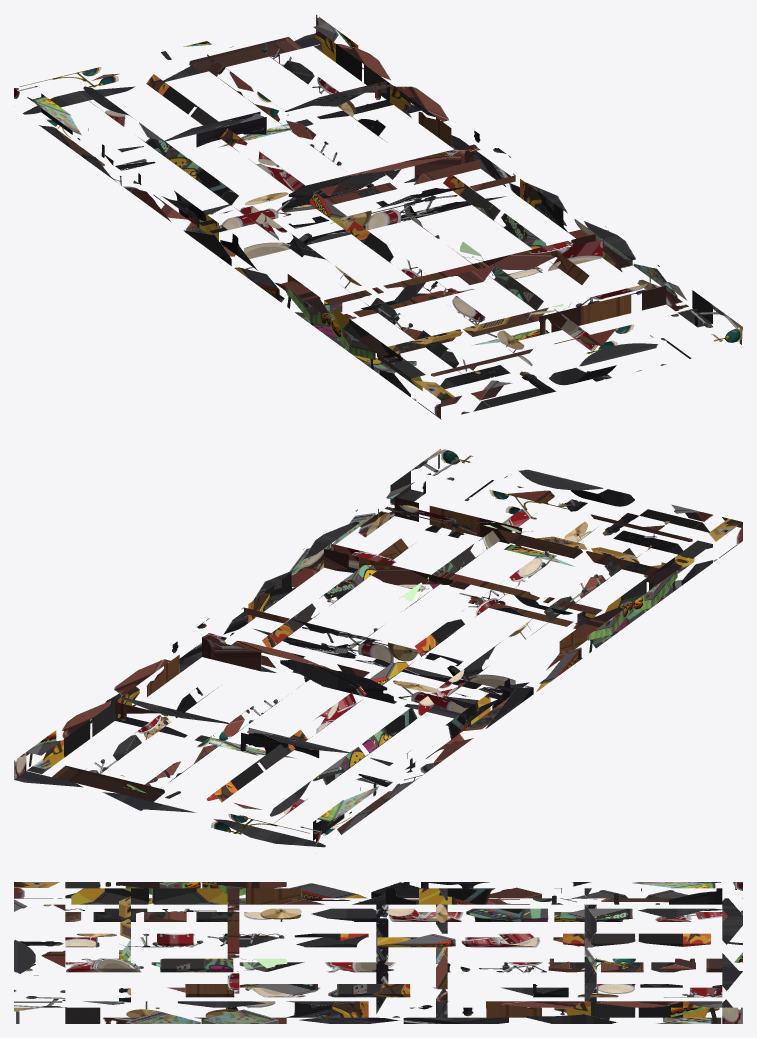
3 views of the same model, one above another, from view 1: azimuth 30°, elevation 25°; view 2: azimuth 150°, elevation 25°; view 3: azimuth 270°, elevation 25° (orthographic). The views are drawn at different scales.
Size of the model in its own units: 1 by 0.06 by 2.45.
